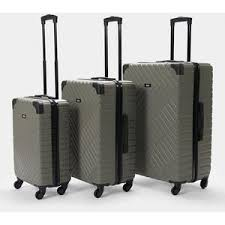suitcase: (122, 14, 213, 197), (60, 14, 136, 197), (10, 14, 73, 199)
